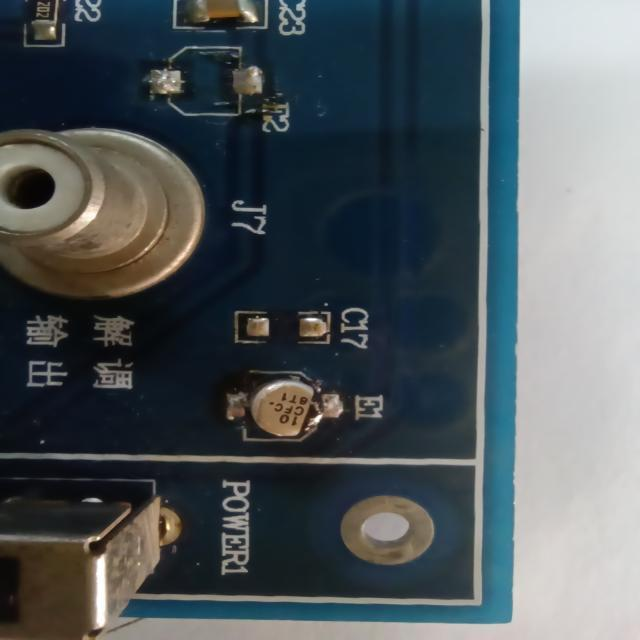Missing component: (126, 36, 304, 142), (224, 294, 390, 358)
